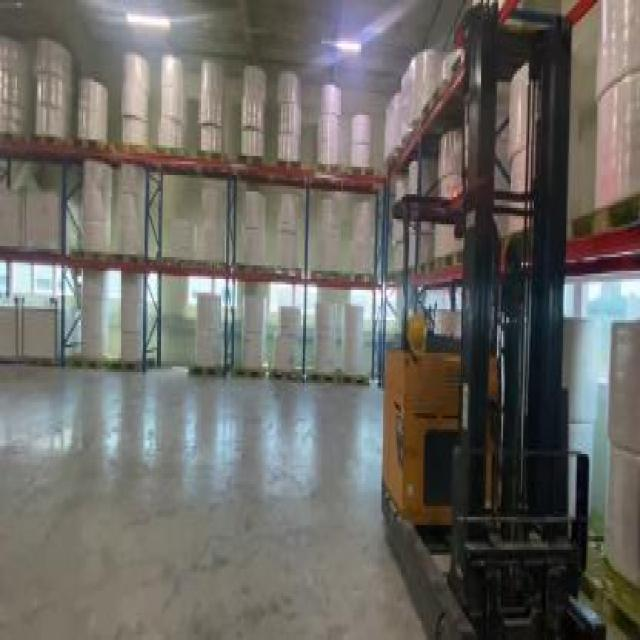robot: (380, 3, 611, 637)
white_roll: (503, 63, 571, 241), (602, 306, 638, 634), (588, 3, 638, 235), (383, 52, 443, 161), (391, 167, 432, 273), (34, 33, 72, 145), (436, 131, 466, 257), (77, 268, 111, 375), (154, 52, 188, 156), (78, 158, 112, 262), (117, 55, 148, 156), (198, 58, 228, 158), (117, 268, 145, 375), (312, 82, 343, 178), (114, 164, 144, 263), (0, 36, 28, 140), (239, 63, 266, 169), (275, 71, 303, 172), (191, 290, 223, 372), (312, 194, 340, 282), (272, 194, 300, 279), (240, 192, 269, 274), (78, 76, 110, 150), (346, 200, 374, 284), (342, 298, 369, 383), (199, 186, 226, 271), (311, 298, 338, 380), (239, 298, 266, 378), (271, 304, 300, 378), (166, 216, 194, 265), (351, 107, 372, 167)
